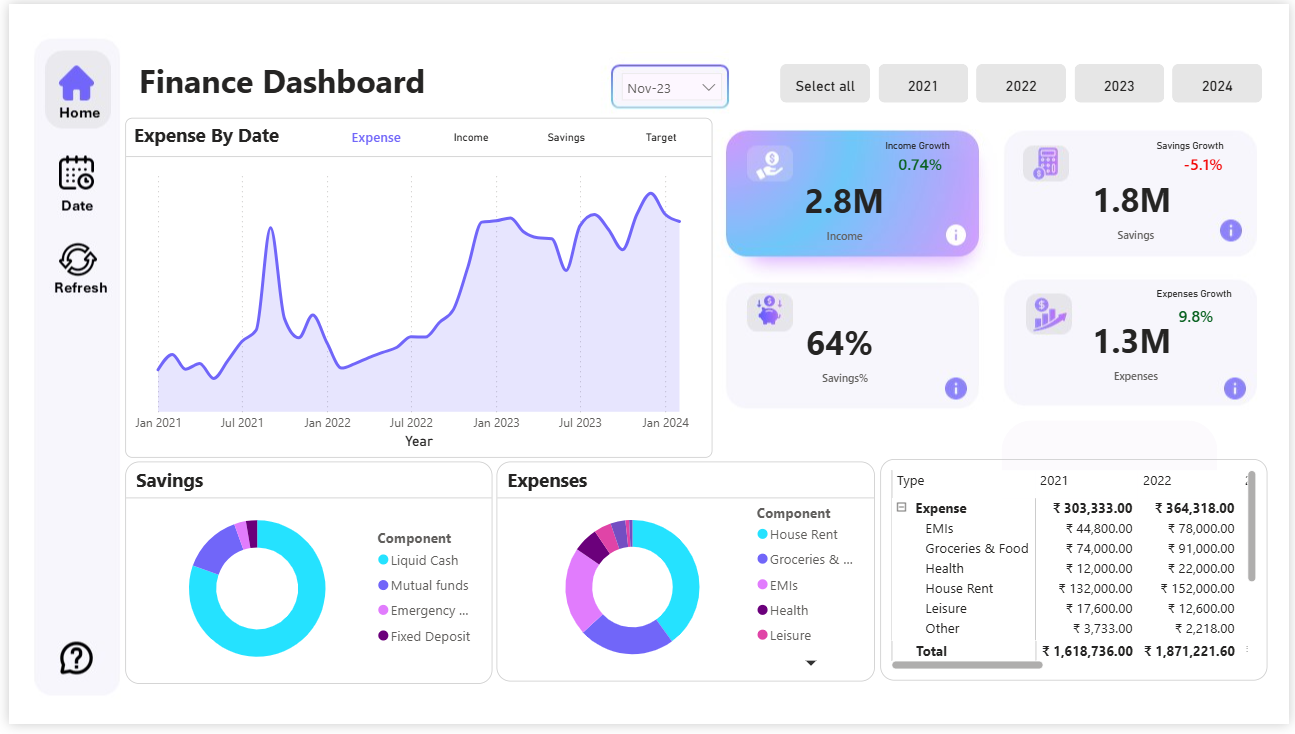

The dashboard page shown, as its layout file describes it:
{"tool":"powerbi","page":{"name":"Page 1","canvas":[1280,720],"ordinal":0},"visuals":[{"type":"shape","box":[992.9,416.1,216.1,121.4],"z":0},{"type":"advancedSlicerVisual","fields":{"Values":["FinData.Year"]},"box":[766.1,55.4,492.9,50],"z":1000},{"type":"donutChart","title":"Savings","fields":{"Category":["FinData.Component"],"Y":["FinData.Savings"]},"box":[116.2,457.5,367.5,222.5],"z":2000},{"type":"donutChart","title":"Expenses","fields":{"Category":["FinData.Component"],"Y":["FinData.Expenses"]},"box":[487.5,457.1,378.6,219.6],"z":3000},{"type":"cardVisual","fields":{"Data":["FinData.Savings"]},"box":[1066.2,155,121.2,88.8],"z":4000},{"type":"cardVisual","fields":{"Data":["FinData.Income"]},"box":[775,152.5,121.2,106.2],"z":5000},{"type":"cardVisual","fields":{"Data":["FinData.Expenses"]},"box":[1066.1,296.4,121.4,89.3],"z":6000},{"type":"cardVisual","fields":{"Data":["FinData.Savings%"]},"box":[780,296.2,112.5,102.5],"z":7000},{"type":"pivotTable","fields":{"Values":["FinData.Total Value"],"Rows":["FinData.Type","FinData.Component"],"Columns":["FinData.Year"]},"box":[871.4,455.4,387.5,221.4],"z":8000},{"type":"areaChart","fields":{"Category":["FinData.Date.Variation.Date Hierarchy.Year","FinData.Date.Variation.Date Hierarchy.Quarter","FinData.Date.Variation.Date Hierarchy.Month","FinData.Date.Variation.Date Hierarchy.Day"],"Y":["FinData.Line chart selectiomn"]},"box":[116.2,113.8,587.5,340],"z":9000},{"type":"advancedSlicerVisual","fields":{"Values":["line selection.Type"]},"box":[318.8,113.8,385,38.8],"z":10000},{"type":"textbox","box":[125,50,301.2,55],"z":11000},{"type":"slicer","fields":{"Values":["Salected date.mm-YY"]},"box":[602.5,58.8,120,66.2],"z":12000},{"type":"card","title":"Savings Growth","fields":{"Values":["FinData.savings growth"]},"box":[1142.9,135.7,103.6,33.9],"z":13000},{"type":"card","title":"Income Growth","fields":{"Values":["FinData.income growth"]},"box":[871.4,135.7,80.4,33.9],"z":14000},{"type":"card","title":"Expenses Growth","fields":{"Values":["FinData.EXPENSE GROWTH"]},"box":[1142.9,283.9,89.3,50],"z":15000},{"type":"actionButton","box":[45,245,40,26.2],"z":16001}]}

Visuals, with their boxes in screenshot pixels (x1, y1, x2, y2), scaled from the page's 1280x720 canvas onto the 1295x734 screenshot:
shape: region(1005, 424, 1223, 548)
advancedSlicerVisual - FinData.Year: region(775, 56, 1274, 107)
"Savings" donutChart: region(118, 466, 489, 693)
"Expenses" donutChart: region(493, 466, 876, 690)
cardVisual - FinData.Savings: region(1079, 158, 1201, 249)
cardVisual - FinData.Income: region(784, 155, 907, 264)
cardVisual - FinData.Expenses: region(1079, 302, 1201, 393)
cardVisual - FinData.Savings%: region(789, 302, 903, 406)
pivotTable - FinData.Total Value x FinData.Type: region(882, 464, 1274, 690)
areaChart - FinData.Date.Variation.Date Hierarchy.Year x FinData.Date.Variation.Date Hierarchy.Quarter: region(118, 116, 712, 463)
advancedSlicerVisual - line selection.Type: region(323, 116, 712, 156)
textbox: region(126, 51, 431, 107)
slicer - Salected date.mm-YY: region(610, 60, 731, 127)
"Savings Growth" card: region(1156, 138, 1261, 173)
"Income Growth" card: region(882, 138, 963, 173)
"Expenses Growth" card: region(1156, 289, 1247, 340)
actionButton: region(46, 250, 86, 276)
